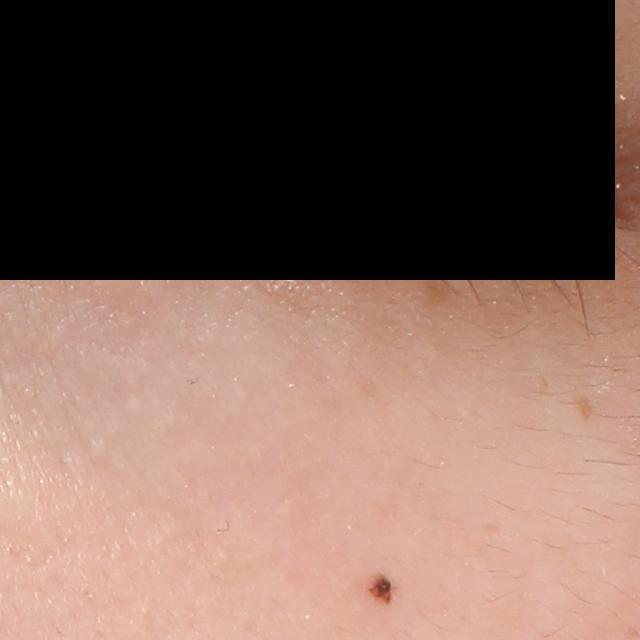melasma: (418, 271, 464, 307), (571, 394, 598, 421)
nevus: (366, 570, 397, 606)
